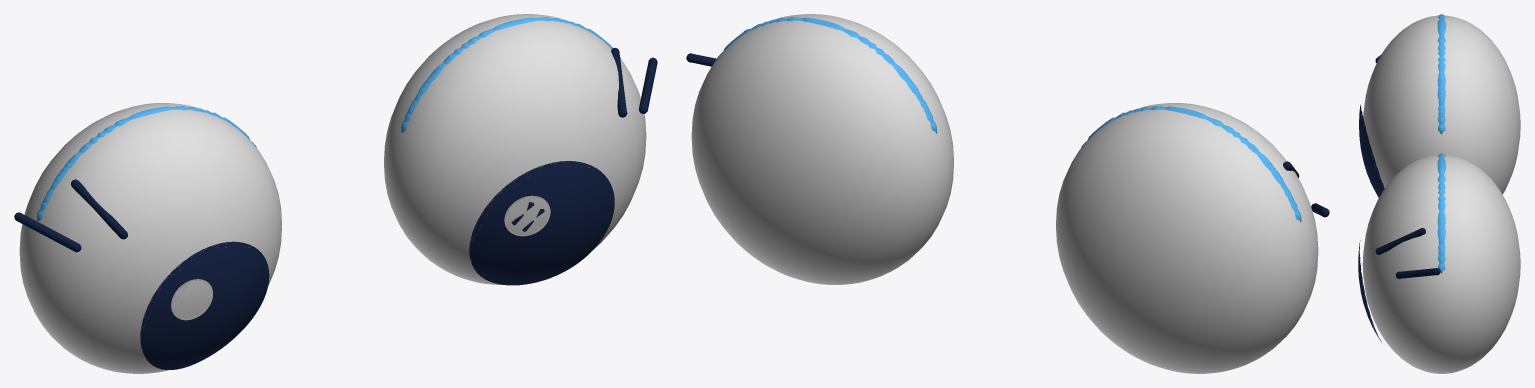
Rendered from eyes-big.glb.
3 renders of one model, left to right at view 1: azimuth 30°, elevation 25°; view 2: azimuth 150°, elevation 25°; view 3: azimuth 270°, elevation 25°, orthographic. The views are drawn at different scales.
Parts seen in each view (by area): view 1: eyes_0_ball, eyes_5_ball, eyes_6_paint, eyes_1_paint, eyes_4_line, eyes_7_paint, eyes_2_paint, eyes_3_solid, eyes_8_solid, eyes_9_line; view 2: eyes_5_ball, eyes_0_ball, eyes_3_solid, eyes_8_solid; view 3: eyes_5_ball, eyes_0_ball, eyes_3_solid, eyes_8_solid, eyes_1_paint, eyes_9_line, eyes_6_paint.
Part boxes in pixels (x1,y1,x2,y2): eyes_0_ball: [19, 103, 281, 373]; eyes_5_ball: [384, 14, 646, 284]; eyes_6_paint: [469, 161, 614, 285]; eyes_1_paint: [140, 241, 269, 369]; eyes_4_line: [14, 179, 127, 252]; eyes_7_paint: [504, 195, 550, 236]; eyes_2_paint: [171, 279, 212, 320]; eyes_3_solid: [36, 106, 256, 221]; eyes_8_solid: [401, 17, 620, 133]; eyes_9_line: [611, 48, 657, 117]; eyes_5_ball: [691, 14, 953, 284]; eyes_0_ball: [1056, 103, 1318, 373]; eyes_3_solid: [1081, 106, 1301, 221]; eyes_8_solid: [717, 17, 936, 133]; eyes_5_ball: [1362, 154, 1520, 373]; eyes_0_ball: [1363, 15, 1520, 194]; eyes_3_solid: [1437, 14, 1445, 134]; eyes_8_solid: [1437, 153, 1445, 273]; eyes_1_paint: [1359, 104, 1384, 197]; eyes_9_line: [1375, 228, 1440, 278]; eyes_6_paint: [1358, 240, 1381, 342].
Size of the model in its own units: 0.7616 by 0.2901 by 0.2133.
